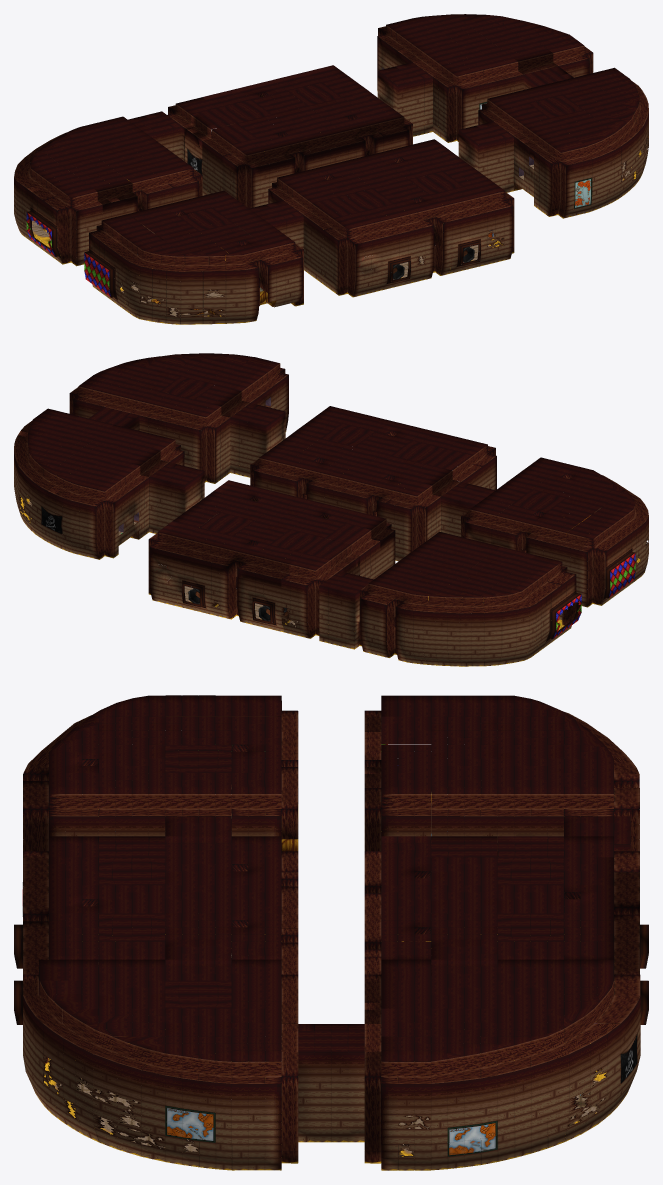
3 views of the same model, one above another, from view 1: azimuth 30°, elevation 25°; view 2: azimuth 150°, elevation 25°; view 3: azimuth 270°, elevation 25° (orthographic). The views are drawn at different scales.
Visible parts, largest first — view 1: 158b000_102, 158b000_97, 158b000_81, 158b000_39, 158b000_95, 158b000_48, 158b000_94, 158b000_43, 158b000_99, 158b000_100, 158b000_98, 158b000_34 (+86 smaller); view 2: 158b000_0, 158b000_9, 158b000_12, 158b000_53, 158b000_62, 158b000_57, 158b000_4, 158b000_5, 158b000_6, 158b000_1, 158b000_7, 158b000_3 (+86 smaller); view 3: 158b000_38, 158b000_80, 158b000_65, 158b000_51, 158b000_24, 158b000_52, 158b000_93, 158b000_104, 158b000_11, 158b000_96, 158b000_56, 158b000_42 (+91 smaller).
Boxes of the visible parts, x1,y1,x2,y2 form: 158b000_102: (534, 133, 592, 218); 158b000_97: (324, 212, 381, 297); 158b000_81: (124, 240, 184, 324); 158b000_39: (37, 180, 102, 266); 158b000_95: (219, 237, 276, 323); 158b000_48: (433, 59, 488, 142); 158b000_94: (180, 246, 228, 324); 158b000_43: (222, 138, 277, 208); 158b000_99: (394, 195, 451, 282); 158b000_100: (429, 186, 486, 273); 158b000_98: (359, 203, 416, 290); 158b000_34: (377, 62, 432, 136); 158b000_0: (423, 587, 484, 666); 158b000_9: (70, 474, 128, 559); 158b000_12: (480, 581, 540, 666); 158b000_53: (561, 522, 625, 607); 158b000_62: (175, 400, 230, 483); 158b000_57: (385, 479, 440, 561); 158b000_4: (281, 553, 339, 638); 158b000_5: (246, 544, 303, 632); 158b000_6: (211, 536, 268, 623); 158b000_1: (387, 579, 444, 664); 158b000_7: (176, 527, 233, 615); 158b000_3: (319, 571, 373, 649); 158b000_38: (430, 1036, 497, 1170); 158b000_80: (165, 1036, 231, 1170); 158b000_65: (231, 1036, 298, 1170); 158b000_51: (364, 1036, 431, 1170); 158b000_24: (497, 1029, 569, 1161); 158b000_52: (298, 1024, 364, 1142); 158b000_93: (93, 1036, 165, 1161); 158b000_104: (43, 1008, 113, 1141); 158b000_11: (564, 1008, 620, 1142); 158b000_96: (23, 773, 98, 851); 158b000_56: (231, 773, 298, 851); 158b000_42: (364, 773, 431, 851).
Size of the model in its own units: 61.78 by 10.16 by 38.21.
1 material, 1 textured.
